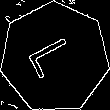L_NE: (26, 32, 83, 83)
